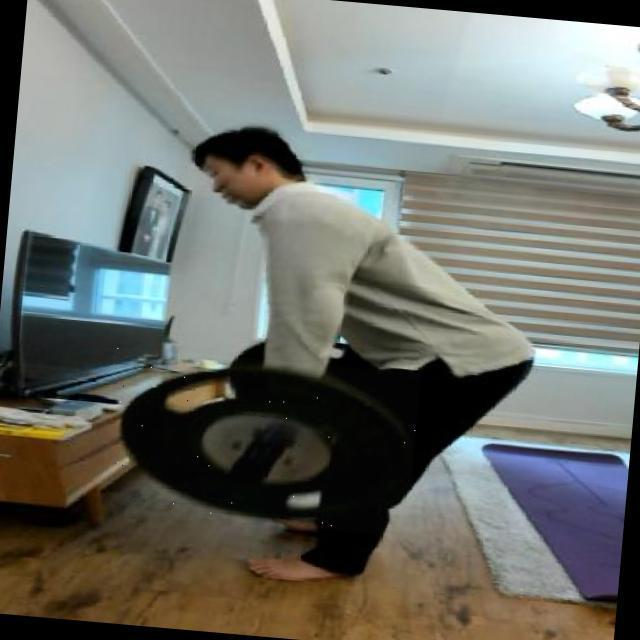barbell: (101, 347, 422, 537)
